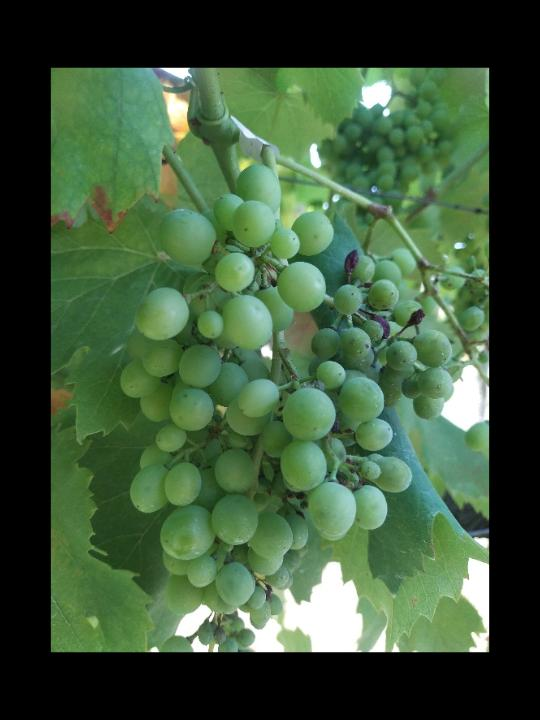grape: (118, 164, 460, 620)
